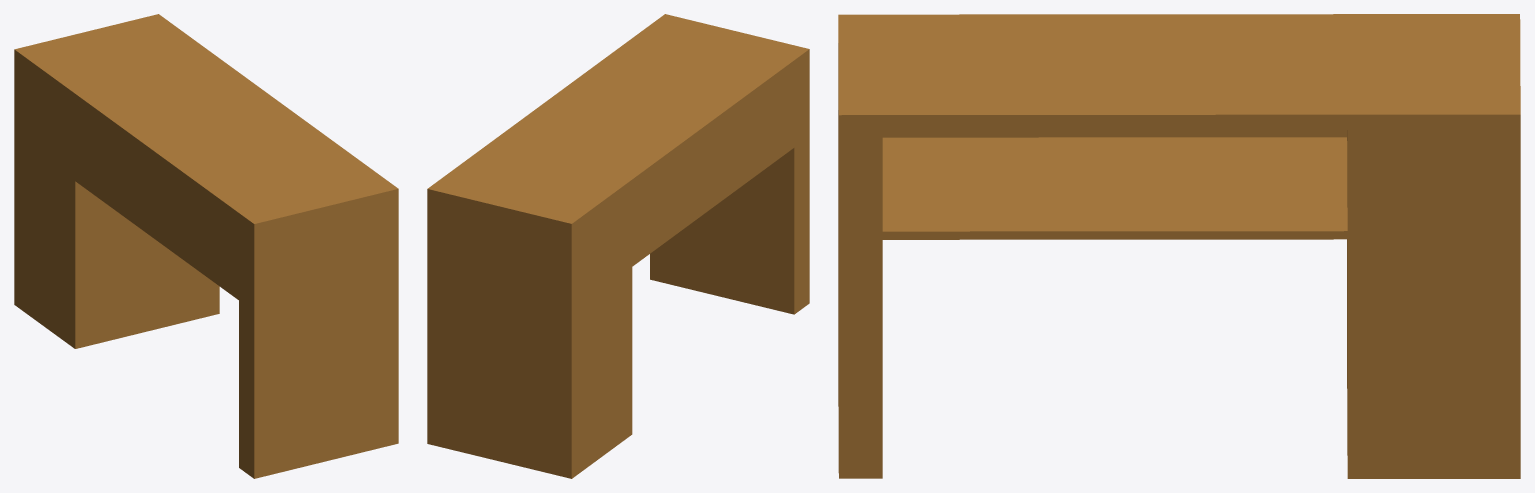
The model's file is Meja Laci.fbx.
3 renders of one model, left to right at view 1: azimuth 30°, elevation 25°; view 2: azimuth 150°, elevation 25°; view 3: azimuth 270°, elevation 25°, orthographic. The views are drawn at different scales.
Visible parts, largest first — view 1: Cube; view 2: Cube; view 3: Cube.
Part boxes in pixels (bbox=[...]): Cube: bbox=[14, 14, 398, 478]; Cube: bbox=[427, 14, 809, 478]; Cube: bbox=[838, 14, 1520, 478].
Bounding box in the file's own units: 111 × 186 × 315.
